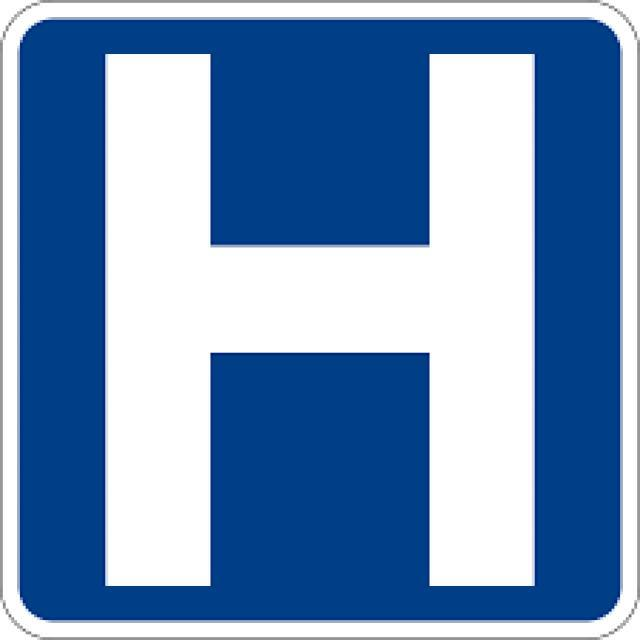hospital ahead: (20, 18, 616, 614)
